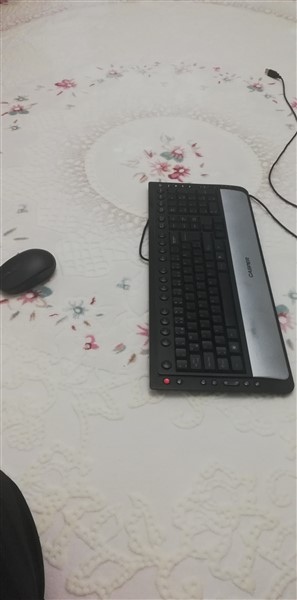klavye: (143, 178, 297, 403)
mouse: (1, 242, 58, 303)
